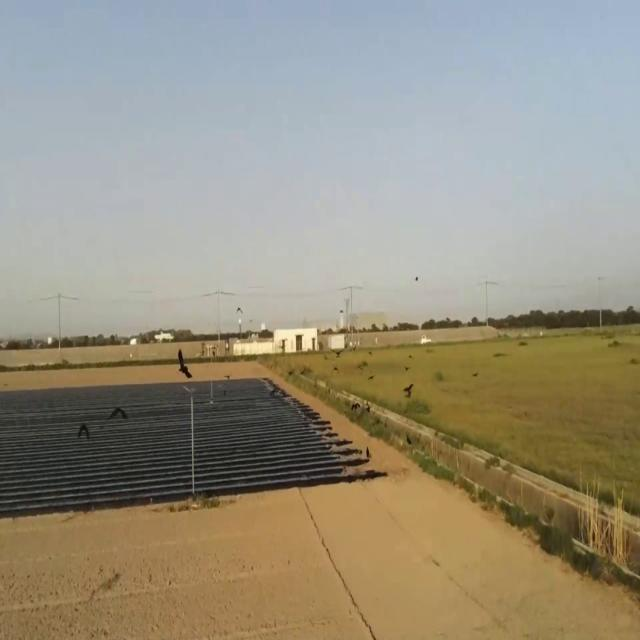bird: (178, 345, 192, 383), (114, 402, 127, 422), (78, 416, 89, 439), (404, 379, 414, 399), (404, 431, 413, 448), (334, 346, 343, 361), (358, 361, 364, 372), (366, 401, 372, 411)
